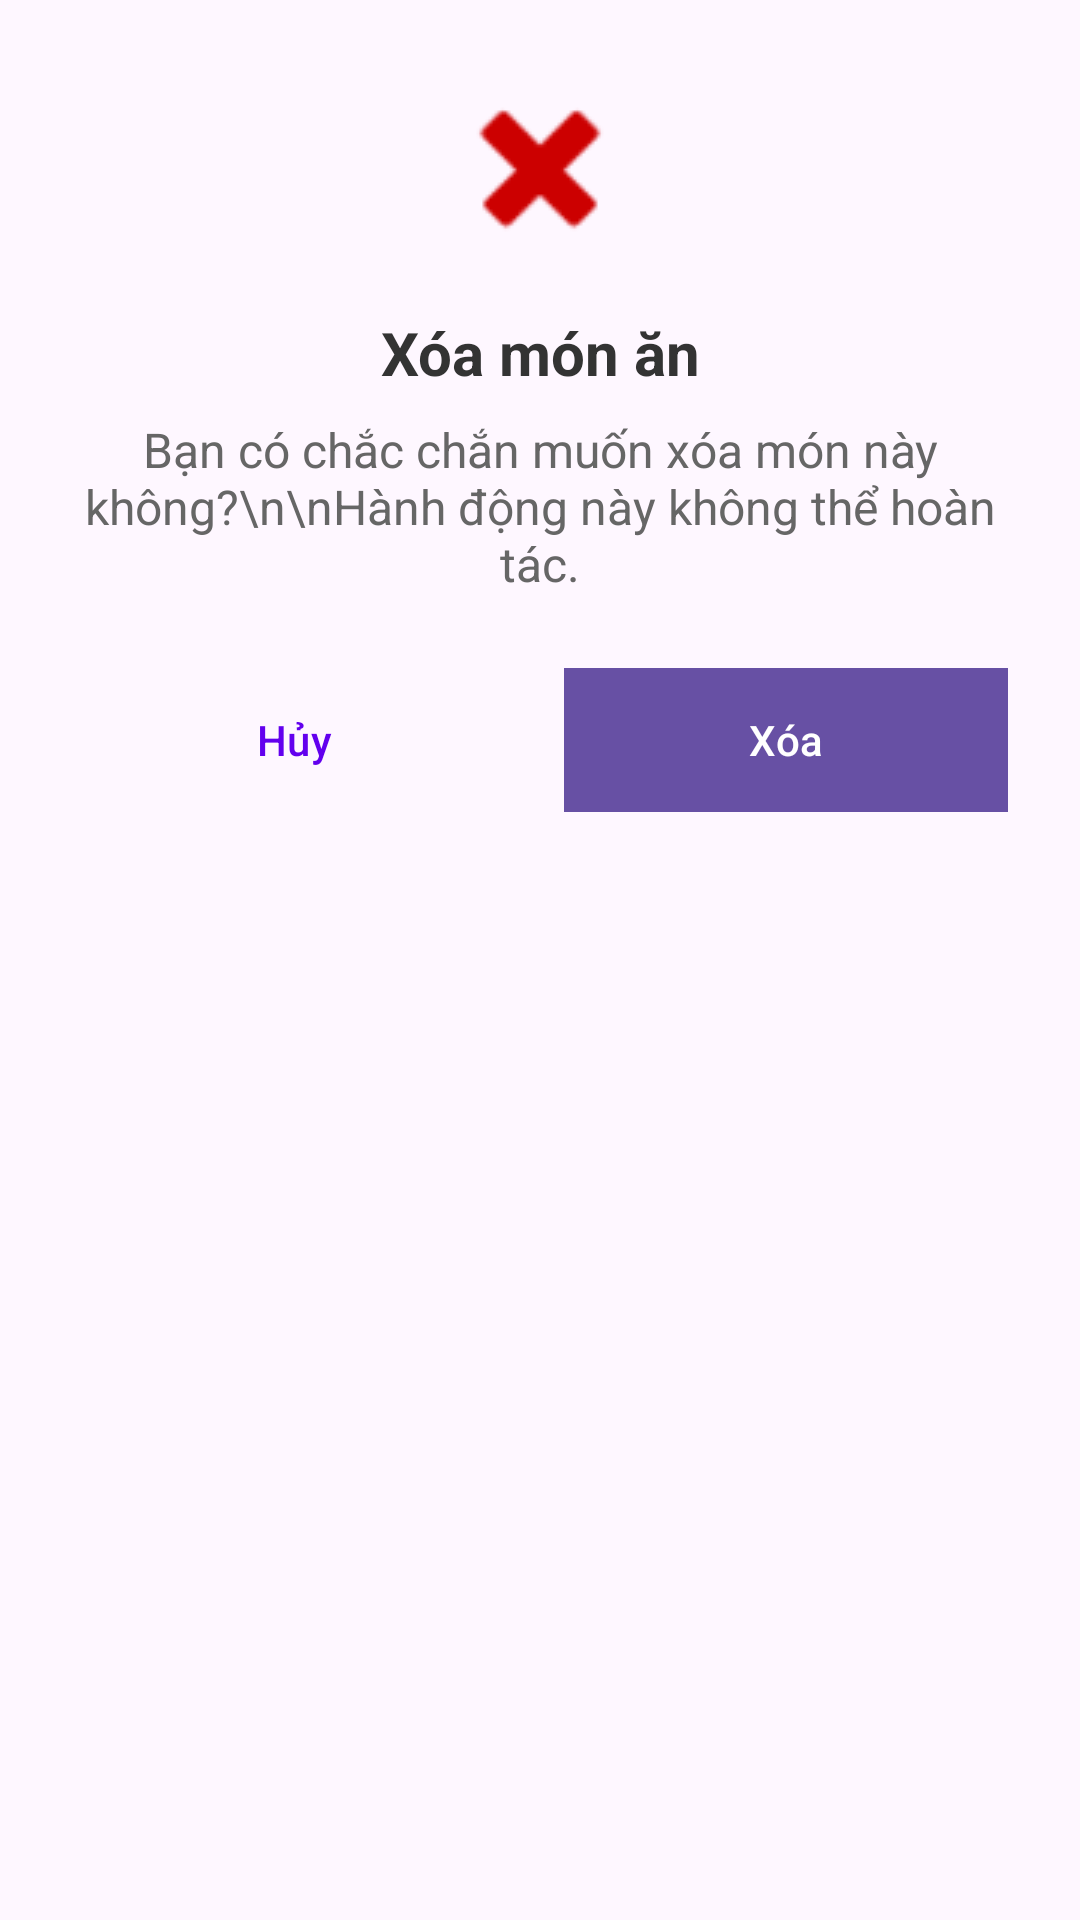

Named icons in this screenshot (1080×1920) and their centers, point (x, y):
delete: point (540, 169)
